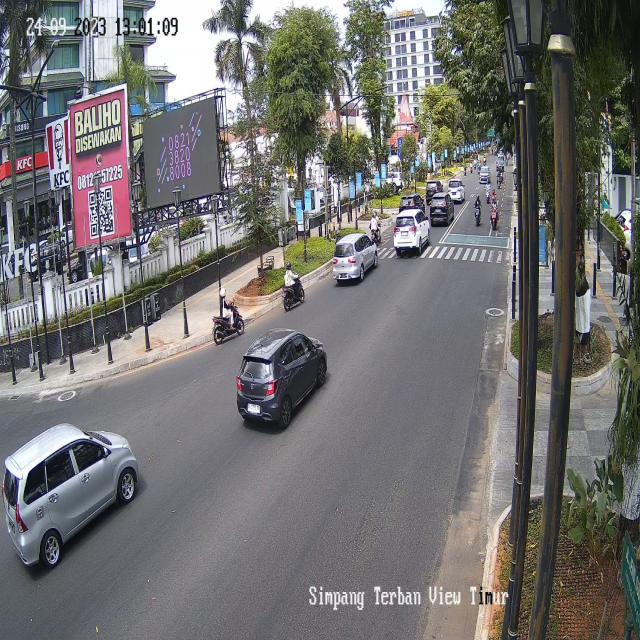car: (3, 421, 138, 571), (238, 320, 329, 426), (333, 234, 379, 284), (394, 209, 431, 257), (430, 193, 454, 225), (398, 193, 426, 220), (425, 181, 445, 205), (448, 180, 466, 202), (479, 166, 491, 185)
motorcycle: (212, 285, 244, 344), (282, 260, 305, 310), (370, 209, 382, 244), (490, 197, 498, 228), (474, 193, 481, 227), (485, 179, 490, 204), (496, 171, 501, 190), (500, 165, 504, 183), (470, 162, 473, 173), (464, 162, 466, 177)
